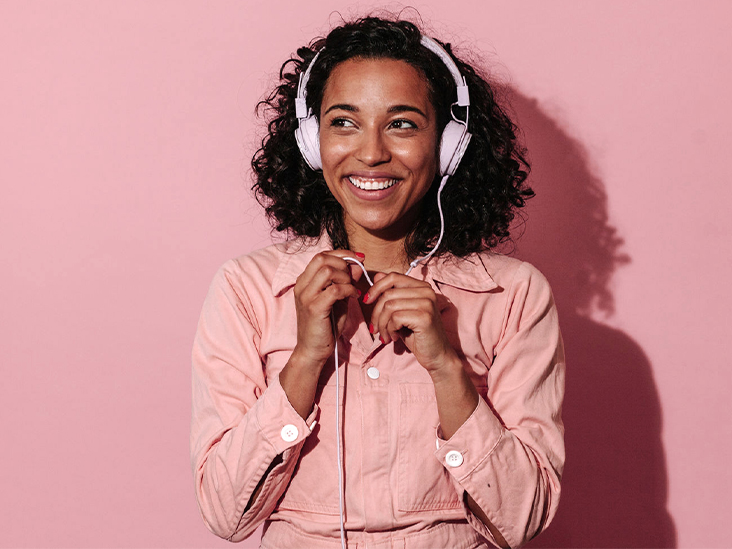NoMask: (321, 96, 427, 229)
